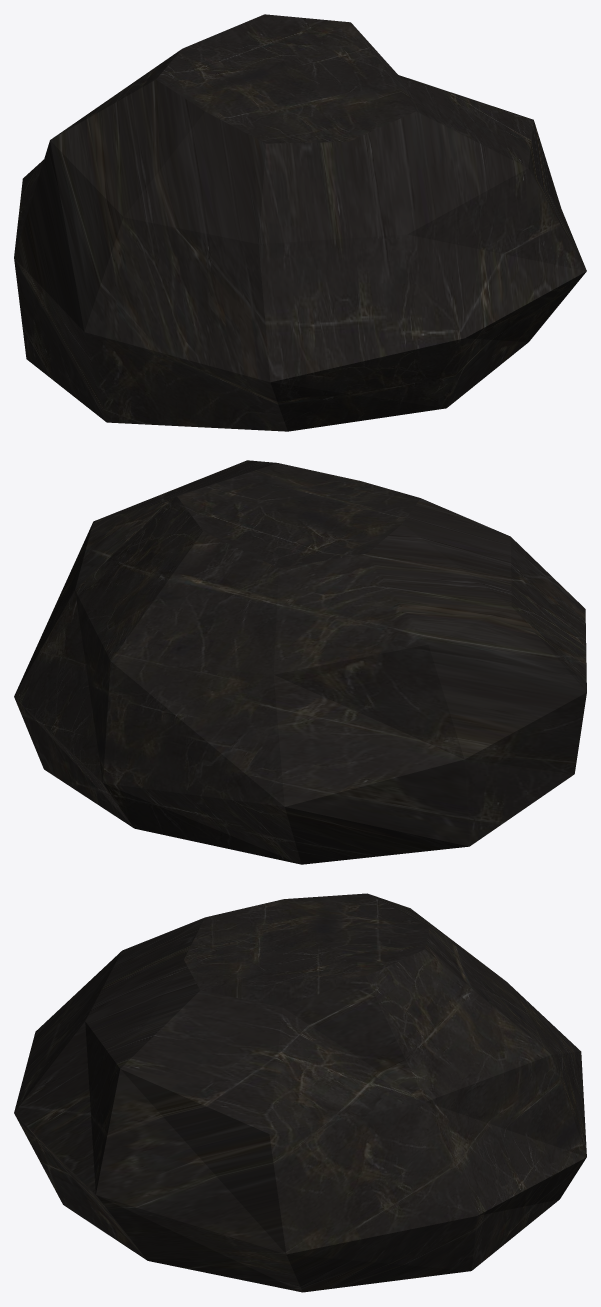
Rendered from area4-basalt-b.glb.
3 renders of one model, top to bottom at view 1: azimuth 30°, elevation 25°; view 2: azimuth 150°, elevation 25°; view 3: azimuth 270°, elevation 25°, orthographic.
Parts seen in each view (by area): view 1: A04_Fractured_Basalt_B; view 2: A04_Fractured_Basalt_B; view 3: A04_Fractured_Basalt_B.
Part boxes in pixels (left/top/right/bottom): A04_Fractured_Basalt_B: left=14, top=14, right=586, bottom=431; A04_Fractured_Basalt_B: left=14, top=460, right=586, bottom=864; A04_Fractured_Basalt_B: left=14, top=893, right=586, bottom=1292.
Bounding box in the file's own units: 1.38 × 0.7 × 1.35.
1 material, 1 textured.
